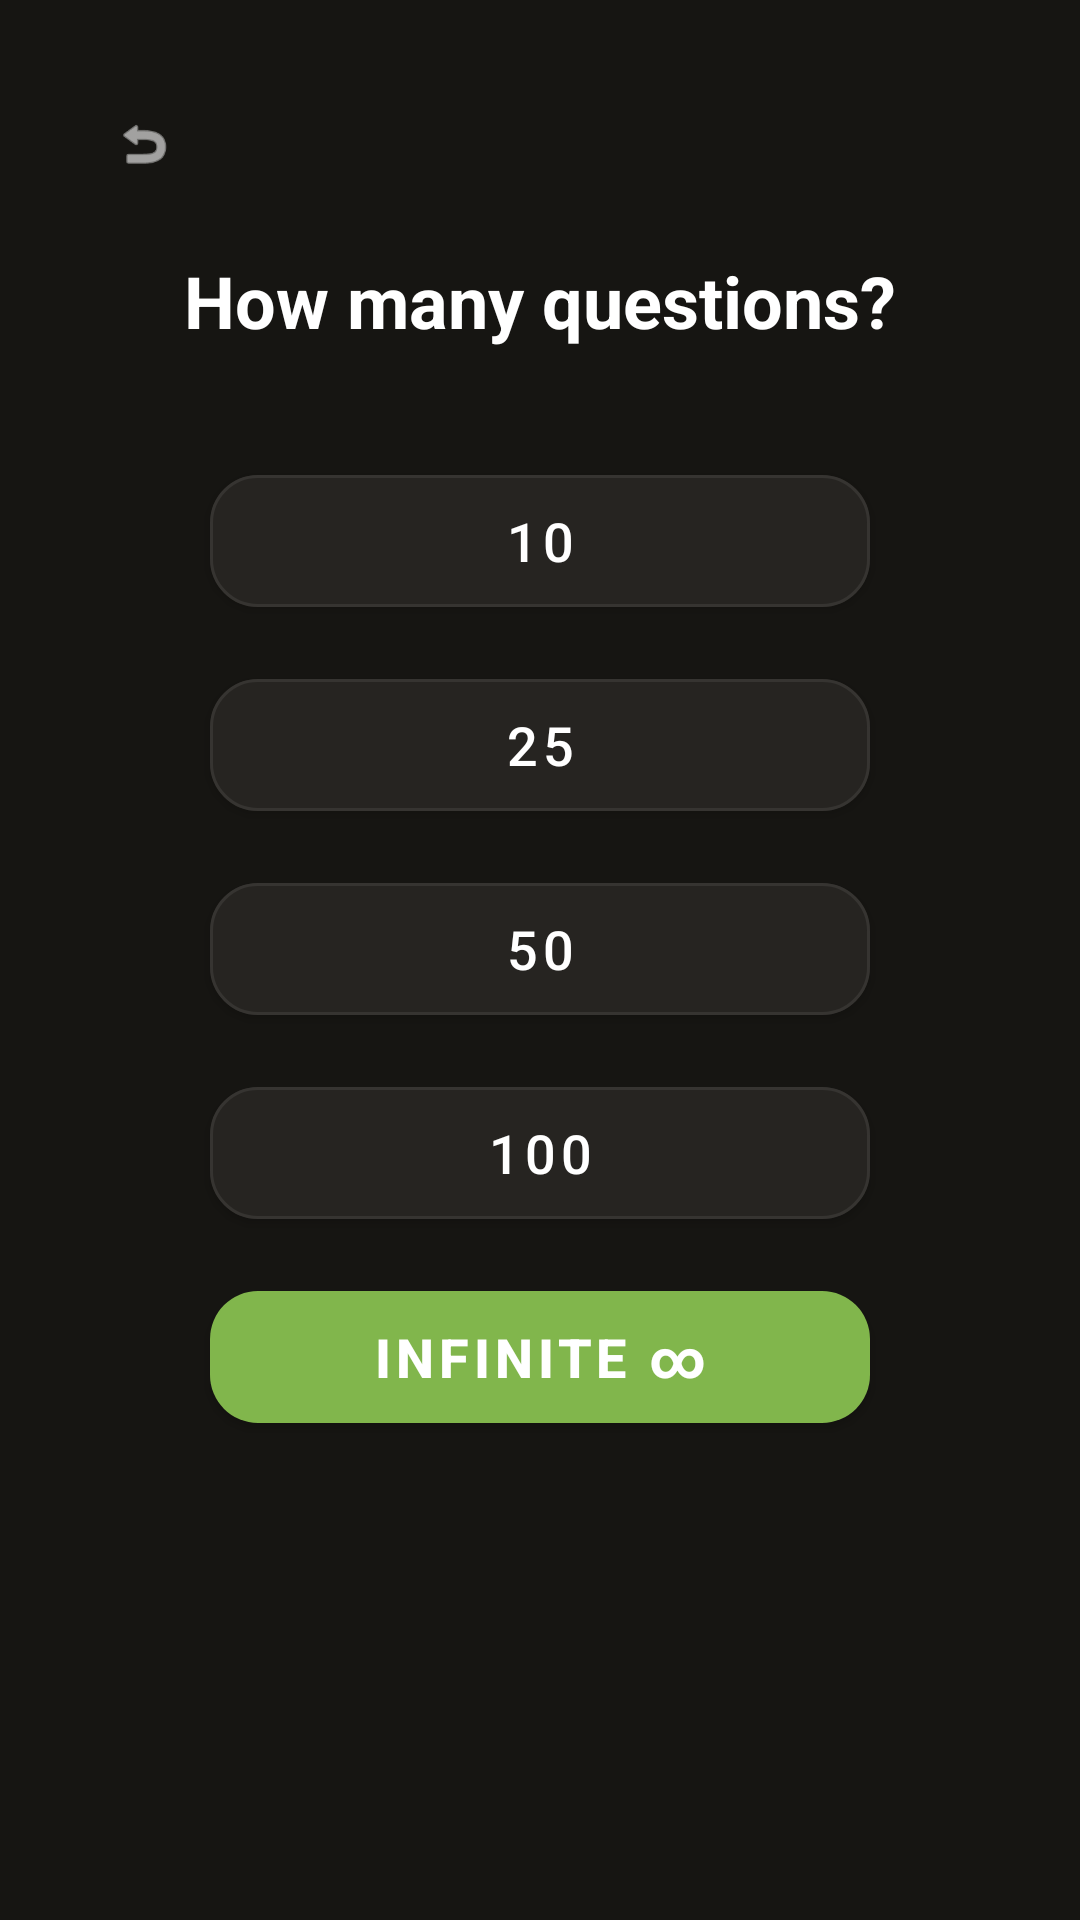

Point at icon controls on the screen. Image size 1080px×1920px, points as point (x, y).
Back: point (144, 144)
